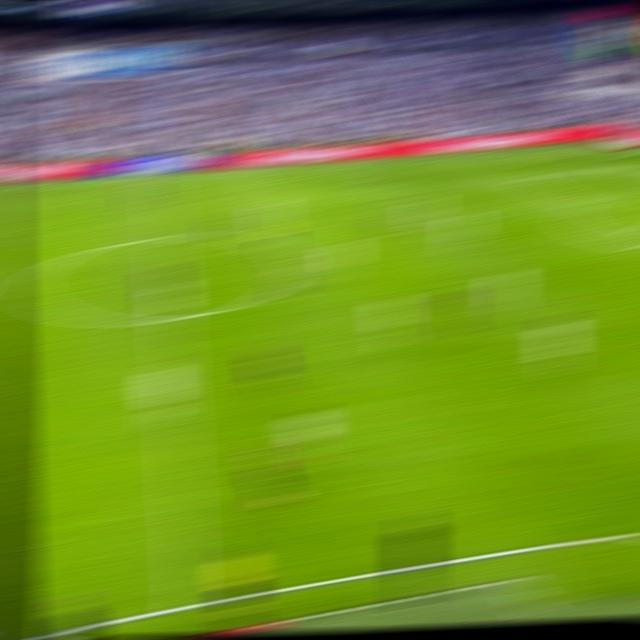halfcircle_top: (151, 229, 179, 245)
midline_bottom_intersection: (171, 589, 203, 614)
midline_top_intersection: (148, 172, 175, 183)
top_arc_area_intersection: (568, 197, 595, 211)
